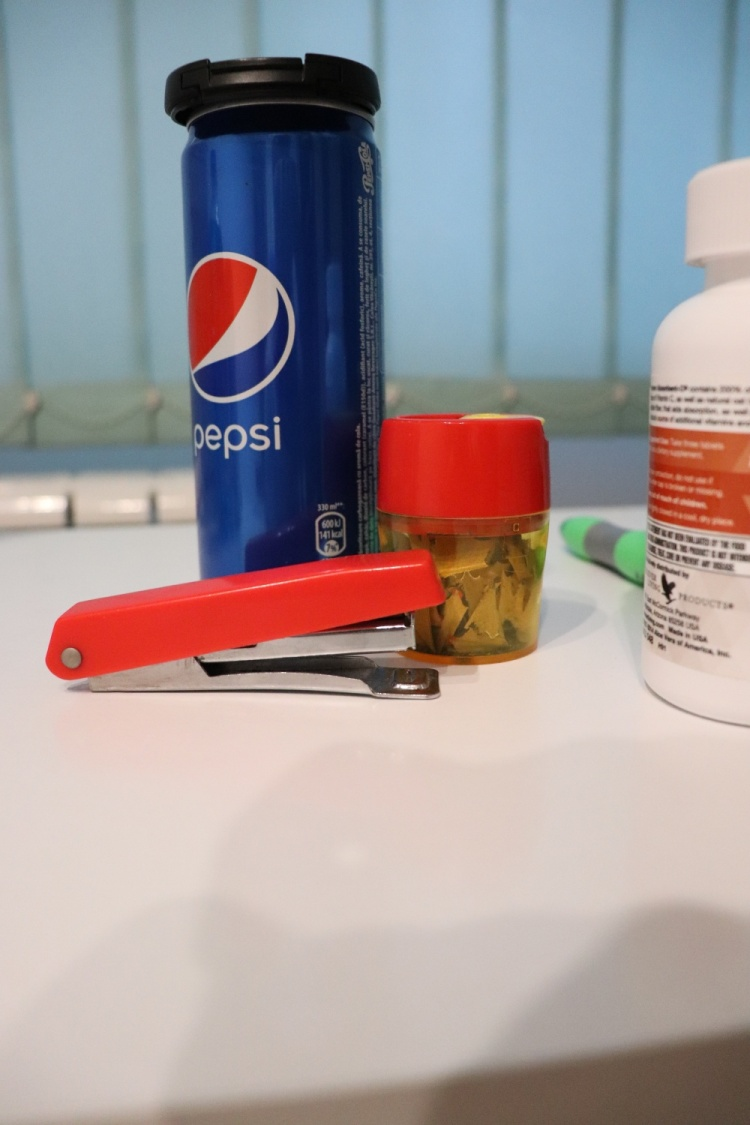pepsi: (168, 110, 387, 566)
